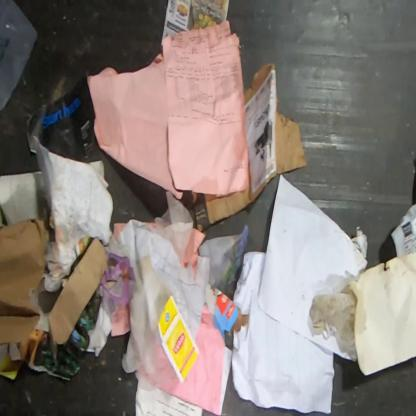cardboard: (190, 61, 308, 233), (46, 236, 109, 346), (0, 217, 48, 346), (203, 283, 250, 353)
soft_plastic: (0, 0, 39, 112), (309, 292, 358, 364)
